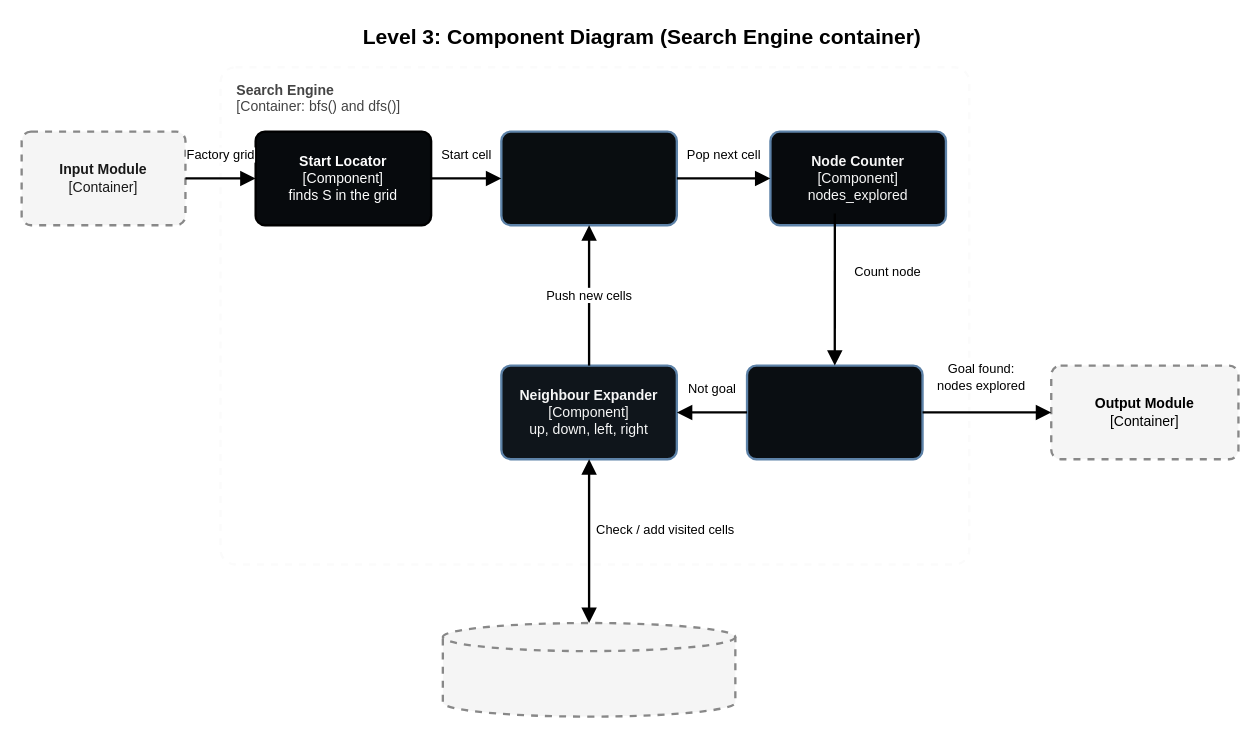
Some shapes in this 1259 by 737 pixel diagram are drawn without their labels. Each missing label, with the box of its shape:
Frontier [Component] deque (BFS) / list stack (DFS): (500, 130, 677, 226)
Goal Test [Component] cell == 'G' ?: (745, 364, 923, 460)
Memory / Visited Set [Container: Python set]: (441, 621, 736, 717)
